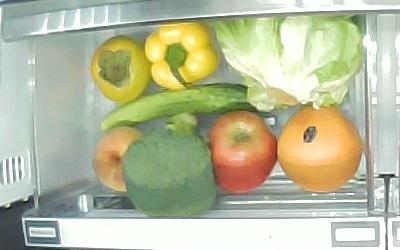apple: (208, 109, 278, 194)
broccoli: (122, 113, 218, 219)
cucumber: (101, 83, 273, 132)
grapefruit: (277, 105, 362, 192)
lettuce: (216, 16, 363, 111)
paprika: (145, 22, 219, 90)
peach: (92, 126, 146, 192)
persimmon: (90, 36, 153, 103)
